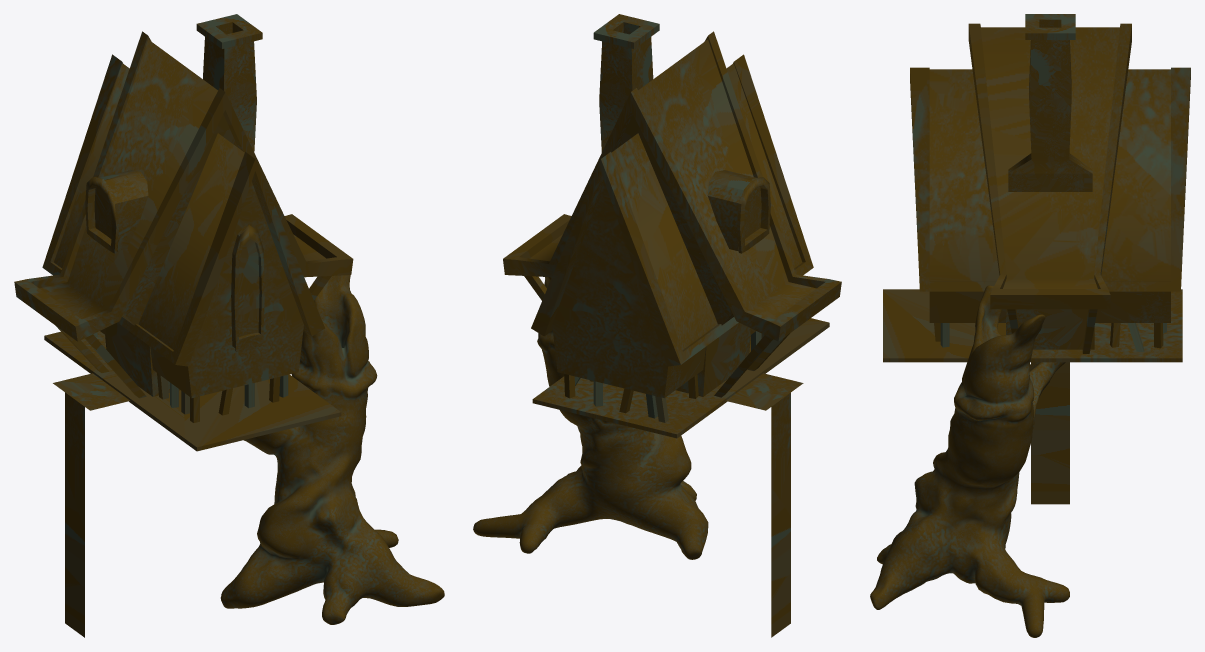
File: MainBuilding_Revamped.fbx
3 views of the same model, side by side, from view 1: azimuth 30°, elevation 25°; view 2: azimuth 150°, elevation 25°; view 3: azimuth 270°, elevation 25° (orthographic).
Visible parts, largest first — view 1: Trunk1; view 2: Trunk1; view 3: Trunk1.
Part boxes in pixels (box(x1,y1,x2,y2)): Trunk1: box(14, 14, 444, 637); Trunk1: box(473, 14, 841, 637); Trunk1: box(870, 14, 1190, 637).
Size of the model in its own units: 4.51 by 7.06 by 3.7.
